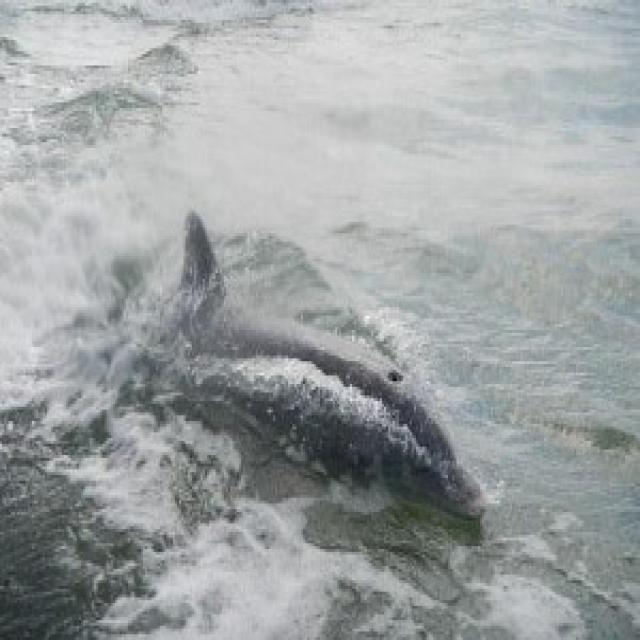Dolphin: (130, 213, 500, 543)
